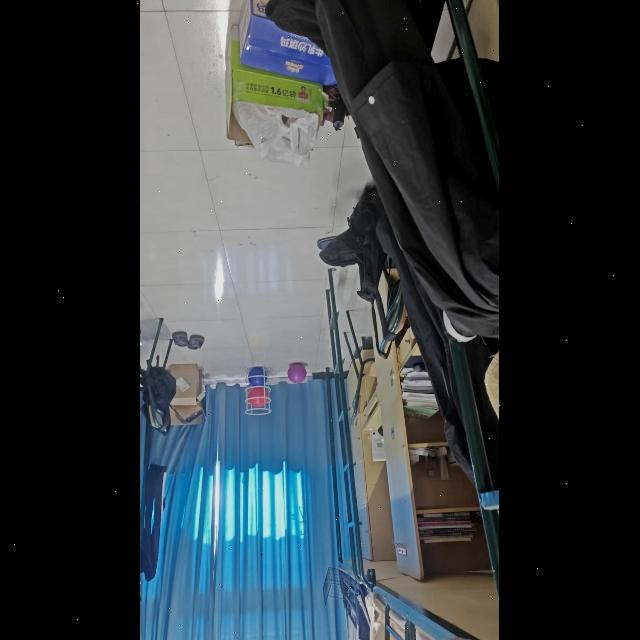B: (248, 367, 266, 387)
P: (288, 365, 306, 383)
R: (245, 388, 271, 408)
S: (243, 368, 275, 418)
